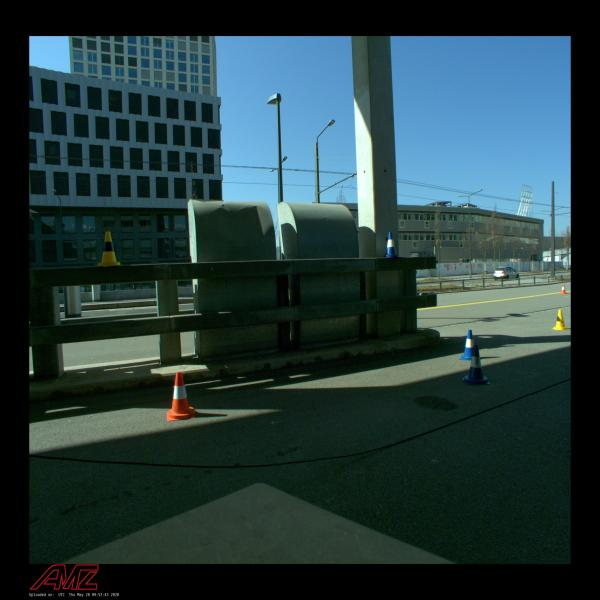blue_cone: (462, 344, 490, 386), (460, 329, 479, 360)
orange_cone: (166, 372, 196, 422), (560, 284, 566, 294)
yellow_cone: (551, 309, 569, 330)
